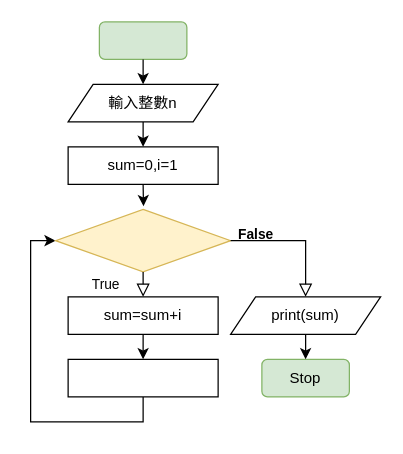
Image size: 403x454. Some labels were removed from this diagram. Here are the shapes that lost their labels. From the top down, the box of each, then its label:
(98, 21, 187, 59): Start
(54, 208, 231, 272): i<n+1
(67, 358, 218, 397): i=i+1
